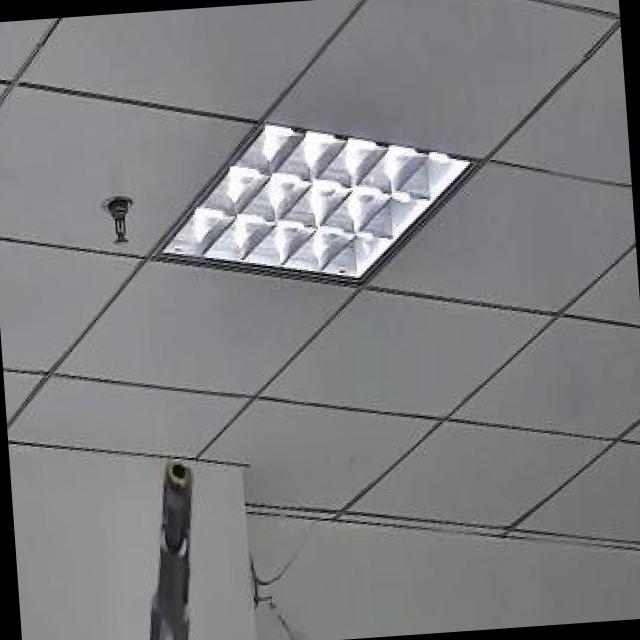Guns: (70, 415, 232, 640)
